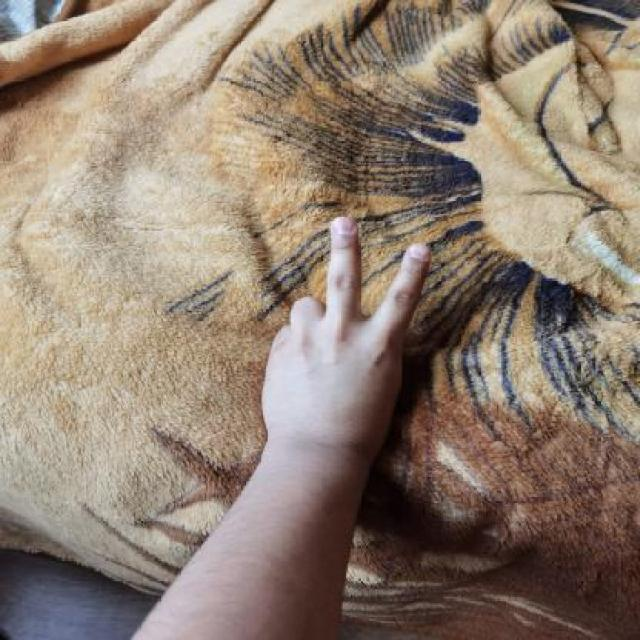V: (254, 213, 435, 465)
